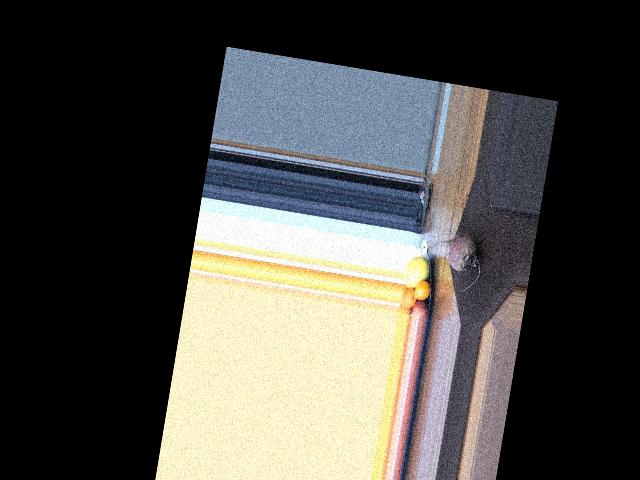beet: (426, 227, 486, 294)
